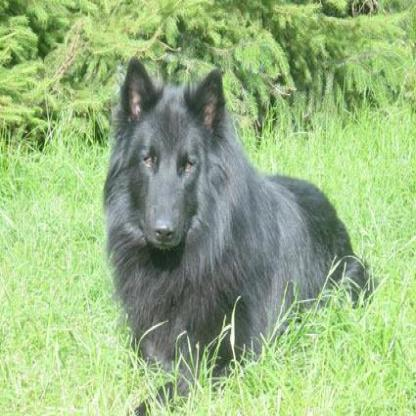groenendael: (101, 56, 378, 413)
